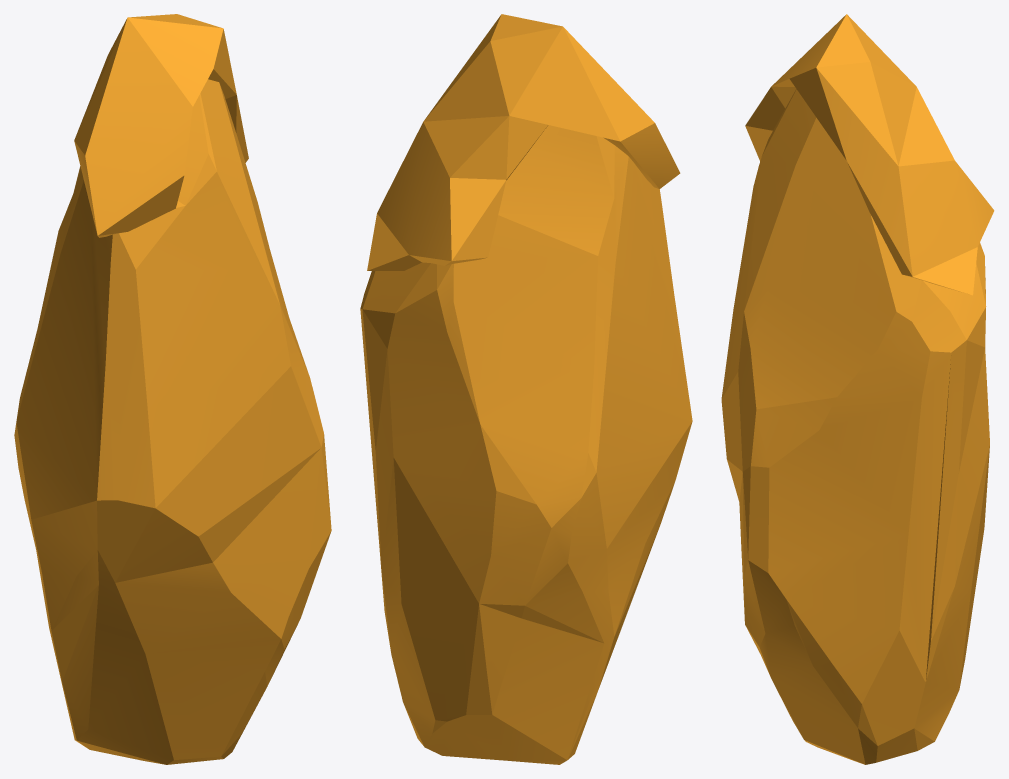
Rendered from SM_Menhir_E_Snow.fbx.
3 renders of one model, left to right at view 1: azimuth 30°, elevation 25°; view 2: azimuth 150°, elevation 25°; view 3: azimuth 270°, elevation 25°, orthographic. The views are drawn at different scales.
Parts seen in each view (by area): view 1: menhir-e-snow; view 2: menhir-e-snow; view 3: menhir-e-snow.
Boxes of the visible parts, bbox=[...] form: menhir-e-snow: bbox=[14, 14, 331, 764]; menhir-e-snow: bbox=[360, 14, 692, 764]; menhir-e-snow: bbox=[721, 14, 994, 764].
Size of the model in its own units: 1.54 by 4.45 by 1.58.
